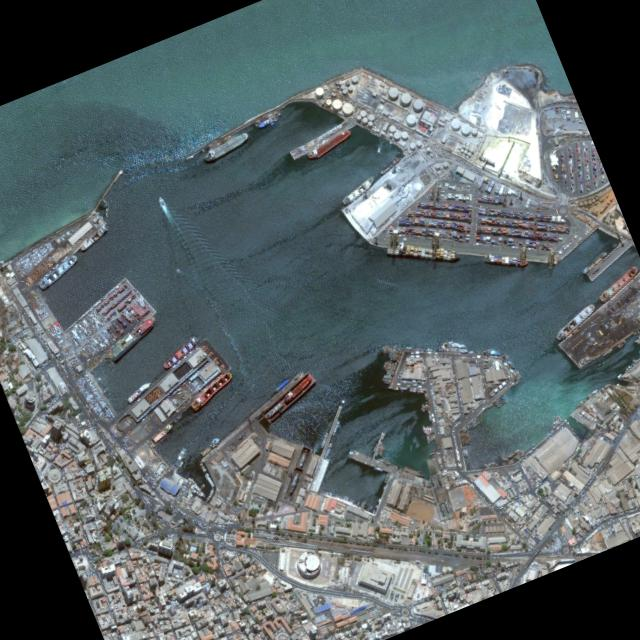large-vehicle: (3, 284, 8, 290), (94, 321, 99, 326), (480, 131, 484, 137), (587, 212, 593, 216), (544, 544, 549, 548), (483, 132, 487, 137), (476, 170, 481, 174), (465, 161, 470, 165), (393, 122, 398, 126), (480, 170, 485, 174), (551, 537, 555, 542), (457, 153, 462, 157), (457, 151, 462, 155), (542, 132, 547, 136), (358, 89, 363, 93), (381, 116, 386, 120), (475, 120, 480, 124), (529, 195, 534, 199), (524, 192, 529, 196), (476, 116, 481, 120), (464, 162, 469, 166), (394, 121, 399, 125), (515, 189, 520, 193), (540, 109, 544, 114), (455, 157, 460, 161), (446, 140, 451, 144), (447, 139, 452, 143), (178, 404, 183, 408), (554, 188, 558, 193), (551, 182, 555, 187), (448, 138, 453, 142), (470, 481, 474, 486), (519, 492, 524, 496), (520, 464, 524, 469), (526, 449, 531, 453), (531, 444, 536, 448), (142, 469, 146, 474), (140, 416, 145, 420), (136, 420, 141, 424), (176, 407, 181, 411), (30, 321, 34, 326), (34, 262, 39, 266), (30, 267, 35, 271), (13, 296, 17, 301), (6, 284, 10, 289), (45, 251, 50, 255), (66, 230, 70, 235), (69, 228, 73, 233), (47, 235, 52, 239), (43, 237, 48, 241), (21, 308, 25, 313), (47, 252, 52, 256), (49, 237, 54, 241), (63, 232, 67, 237), (189, 394, 194, 398), (219, 358, 223, 363), (193, 369, 198, 373), (448, 132, 453, 136), (93, 315, 97, 320), (96, 319, 100, 324), (56, 363, 60, 368), (62, 376, 66, 381), (60, 371, 64, 376), (436, 151, 442, 154), (475, 115, 481, 118), (561, 112, 564, 118), (545, 543, 549, 547), (448, 146, 452, 150), (546, 542, 550, 546), (471, 165, 475, 169), (474, 103, 478, 107), (548, 539, 552, 543), (473, 107, 477, 111), (474, 104, 478, 108), (386, 101, 390, 105), (385, 102, 389, 106), (475, 100, 479, 104), (475, 121, 479, 125), (542, 179, 546, 183), (545, 175, 549, 179), (183, 401, 187, 405), (555, 425, 559, 429), (52, 240, 56, 244), (145, 412, 149, 416), (175, 407, 179, 411), (64, 254, 68, 258), (19, 274, 23, 278), (181, 400, 185, 404), (181, 404, 185, 408), (55, 246, 59, 250), (65, 231, 69, 235), (69, 250, 73, 254), (34, 243, 38, 247), (25, 248, 29, 252), (590, 466, 594, 470), (187, 398, 191, 402), (187, 397, 191, 401), (201, 386, 205, 390), (219, 371, 223, 375), (190, 348, 194, 352), (96, 317, 100, 321), (139, 296, 143, 300), (140, 295, 144, 299), (141, 300, 145, 304), (68, 384, 72, 388), (94, 319, 98, 323), (552, 201, 557, 204), (404, 126, 409, 129), (342, 96, 347, 99), (362, 98, 367, 101), (481, 137, 484, 142), (436, 147, 441, 150), (478, 91, 483, 94), (475, 113, 480, 116), (482, 103, 485, 108), (398, 125, 403, 128), (471, 109, 476, 112), (476, 110, 481, 113), (476, 142, 479, 147), (478, 137, 481, 142), (525, 473, 528, 478), (436, 126, 439, 131), (363, 93, 368, 96), (383, 116, 388, 119), (354, 102, 359, 105), (474, 146, 477, 151), (477, 94, 482, 97), (356, 97, 361, 100), (357, 92, 362, 95), (361, 96, 366, 99), (362, 95, 367, 98), (364, 92, 369, 95), (443, 144, 448, 147), (364, 89, 369, 92), (438, 127, 441, 132), (387, 119, 392, 122), (564, 134, 569, 137), (357, 91, 362, 94), (485, 173, 490, 176), (477, 146, 480, 151), (537, 200, 542, 203), (534, 197, 539, 200), (476, 118, 481, 121), (579, 131, 584, 134), (490, 176, 495, 179), (495, 178, 500, 181), (499, 180, 504, 183), (509, 185, 514, 188), (451, 155, 456, 158), (457, 139, 462, 142), (447, 135, 452, 138), (475, 150, 478, 155), (543, 107, 548, 110), (541, 103, 546, 106), (554, 193, 557, 198), (543, 171, 546, 176), (548, 105, 553, 108), (607, 478, 610, 483), (523, 468, 526, 473), (454, 447, 457, 452), (176, 409, 181, 412), (67, 229, 70, 234), (71, 227, 74, 232), (66, 242, 69, 247), (165, 394, 170, 397), (205, 381, 210, 384), (95, 318, 98, 323), (60, 371, 63, 376), (88, 408, 91, 413), (539, 516, 542, 520), (543, 511, 546, 515), (536, 495, 539, 499), (483, 89, 487, 92), (481, 103, 484, 107), (472, 152, 475, 156), (476, 168, 480, 171), (550, 538, 553, 542), (548, 541, 551, 545), (463, 156, 467, 159), (358, 96, 362, 99), (476, 97, 480, 100), (478, 93, 482, 96), (474, 106, 478, 109), (474, 102, 478, 105), (347, 98, 351, 101), (360, 105, 364, 108), (360, 104, 364, 107), (377, 113, 381, 116), (540, 119, 542, 125), (549, 184, 552, 188), (551, 185, 554, 189), (515, 187, 519, 190), (479, 142, 482, 146), (520, 190, 524, 193), (460, 160, 464, 163), (451, 156, 455, 159), (351, 101, 355, 104), (476, 119, 480, 122), (544, 177, 547, 181), (565, 137, 569, 140), (92, 315, 95, 319), (456, 448, 458, 454), (172, 412, 176, 415), (55, 262, 59, 265), (26, 292, 30, 295), (182, 401, 186, 404), (63, 252, 67, 255), (64, 232, 67, 236), (65, 232, 68, 236), (174, 362, 178, 365), (85, 403, 88, 407), (186, 397, 190, 400), (215, 375, 219, 378), (182, 379, 186, 382), (537, 127, 539, 132), (436, 150, 441, 152), (435, 152, 437, 157), (434, 145, 436, 150), (379, 115, 384, 117), (566, 131, 571, 133), (540, 114, 542, 119), (538, 139, 540, 144), (471, 113, 476, 115), (543, 154, 545, 159), (548, 116, 550, 121), (541, 167, 543, 172), (559, 193, 561, 198), (546, 101, 551, 103), (459, 461, 461, 466), (552, 100, 557, 102), (19, 279, 24, 281), (18, 282, 20, 287), (595, 474, 598, 477), (339, 94, 342, 97), (113, 433, 116, 436), (436, 149, 440, 151), (404, 128, 408, 130), (480, 107, 482, 111), (556, 116, 558, 120), (552, 188, 554, 192), (561, 99, 565, 101), (584, 132, 588, 134), (539, 151, 541, 155), (458, 457, 460, 461), (455, 452, 457, 456), (158, 507, 162, 509), (539, 147, 541, 150), (455, 445, 457, 448), (574, 132, 579, 133), (551, 116, 552, 121), (552, 116, 553, 121), (574, 134, 579, 135), (541, 125, 542, 130), (559, 115, 560, 120), (558, 115, 559, 120), (580, 134, 585, 135), (538, 133, 539, 138), (567, 105, 572, 106), (560, 122, 565, 123), (457, 454, 458, 459), (23, 286, 24, 291), (481, 124, 485, 125), (547, 116, 548, 120), (536, 113, 537, 117), (579, 136, 583, 137), (585, 134, 589, 135), (552, 133, 556, 134), (557, 132, 561, 133), (458, 453, 459, 457), (572, 99, 575, 100), (567, 99, 570, 100), (539, 144, 540, 147), (568, 133, 571, 134), (558, 100, 561, 101)
ship: (107, 313, 157, 361), (189, 368, 233, 410), (554, 299, 596, 341), (598, 262, 640, 303), (202, 129, 250, 162), (306, 127, 351, 161), (37, 253, 78, 289), (160, 333, 199, 370), (386, 244, 459, 260), (340, 174, 375, 204), (282, 373, 312, 401), (79, 223, 108, 251), (581, 249, 608, 274), (127, 379, 151, 402), (483, 254, 528, 265), (151, 421, 173, 442), (378, 154, 401, 174), (200, 435, 220, 455), (266, 399, 285, 416), (256, 114, 279, 128), (173, 446, 187, 466), (402, 464, 425, 476), (273, 376, 290, 391), (288, 470, 299, 492), (438, 344, 467, 352), (501, 352, 515, 367), (297, 447, 307, 466), (442, 340, 465, 347), (323, 441, 332, 458), (319, 431, 328, 447), (331, 419, 340, 435), (374, 439, 382, 456), (507, 447, 520, 457), (396, 345, 404, 361), (470, 417, 482, 427), (388, 344, 396, 359), (377, 456, 391, 464), (587, 387, 598, 397), (512, 366, 522, 377), (481, 348, 499, 354), (385, 358, 392, 373), (173, 412, 183, 422), (616, 338, 626, 348), (513, 448, 524, 457), (392, 346, 399, 360), (390, 361, 397, 374), (405, 343, 420, 349), (516, 450, 526, 459), (459, 422, 470, 430), (602, 346, 613, 354), (387, 344, 394, 356), (526, 441, 535, 450), (461, 423, 471, 431), (439, 501, 445, 514), (394, 346, 400, 359), (388, 360, 394, 373), (378, 444, 385, 455), (578, 397, 587, 405), (377, 442, 383, 454), (383, 471, 390, 481), (187, 475, 196, 482), (470, 417, 479, 424), (469, 415, 478, 422), (370, 129, 379, 136), (385, 373, 391, 383), (373, 465, 383, 471), (444, 499, 449, 511), (465, 431, 470, 443), (468, 348, 480, 353), (512, 378, 520, 385), (425, 432, 430, 443), (387, 384, 398, 389), (591, 361, 600, 367), (459, 431, 463, 444), (419, 346, 432, 350), (347, 447, 352, 457), (349, 448, 354, 458), (382, 344, 387, 354), (463, 431, 467, 443), (383, 373, 388, 382), (388, 374, 393, 383), (372, 442, 377, 451), (421, 423, 426, 432), (429, 449, 438, 454), (376, 144, 381, 153), (461, 431, 465, 442), (464, 445, 468, 456), (384, 359, 388, 370), (553, 414, 560, 420), (178, 459, 184, 466), (487, 401, 494, 407), (461, 445, 465, 455), (556, 417, 562, 423), (563, 418, 569, 424), (634, 356, 640, 362), (381, 373, 386, 380), (554, 416, 561, 421), (491, 397, 498, 402), (382, 360, 386, 368), (429, 423, 433, 431), (428, 424, 432, 432), (420, 402, 424, 410), (487, 460, 495, 464), (490, 462, 498, 466), (616, 372, 622, 377), (500, 398, 506, 403), (342, 495, 348, 500), (495, 400, 501, 405), (493, 399, 499, 404), (197, 489, 202, 495), (380, 344, 384, 351), (506, 458, 513, 462), (342, 494, 349, 498), (424, 425, 428, 432), (387, 345, 391, 352), (431, 431, 435, 438), (385, 345, 389, 352), (424, 402, 428, 409), (423, 391, 427, 398), (428, 432, 431, 441), (417, 387, 426, 390), (627, 363, 632, 368), (496, 402, 501, 407), (499, 398, 505, 402), (498, 396, 504, 400), (426, 425, 429, 433), (416, 389, 424, 392), (409, 386, 417, 389), (335, 494, 342, 497), (430, 432, 433, 439), (428, 413, 431, 420), (507, 460, 514, 463), (409, 388, 416, 391), (382, 484, 386, 489), (190, 483, 194, 488), (497, 394, 502, 398), (199, 490, 203, 495), (398, 386, 407, 388), (601, 359, 605, 363), (634, 337, 638, 341), (633, 330, 637, 334), (624, 367, 628, 371), (377, 496, 380, 501), (204, 472, 209, 475), (423, 403, 426, 408), (427, 408, 430, 413), (374, 503, 377, 507), (369, 504, 372, 508), (204, 471, 208, 474), (202, 468, 206, 471), (206, 476, 210, 479), (194, 483, 197, 487), (196, 485, 199, 489), (197, 487, 201, 490), (199, 462, 202, 465), (210, 488, 213, 491), (208, 478, 211, 481), (210, 481, 213, 484), (192, 488, 195, 491), (197, 486, 200, 489), (205, 474, 208, 477), (206, 475, 209, 478), (193, 488, 196, 491), (209, 492, 212, 495), (201, 492, 204, 495), (195, 489, 198, 492), (376, 503, 378, 507), (200, 465, 204, 467), (200, 464, 204, 466), (638, 340, 640, 343), (380, 509, 382, 512), (202, 467, 205, 469), (208, 477, 211, 479), (209, 480, 212, 482), (211, 483, 214, 485), (211, 485, 214, 487), (203, 493, 205, 496), (208, 494, 211, 496), (195, 484, 197, 487), (196, 490, 199, 492), (206, 496, 209, 498), (201, 466, 204, 468), (210, 491, 212, 493), (210, 490, 212, 492)
storage-tank: (339, 99, 355, 115), (458, 120, 473, 136), (410, 96, 425, 111), (398, 90, 413, 105), (385, 84, 400, 99), (403, 111, 417, 126), (448, 115, 462, 130), (330, 96, 343, 110), (313, 85, 325, 98), (391, 129, 402, 141), (469, 125, 479, 136), (399, 129, 409, 139), (349, 73, 359, 83), (358, 107, 367, 116), (388, 123, 396, 132), (324, 97, 332, 106), (367, 112, 375, 120), (441, 159, 449, 167), (433, 161, 441, 169), (408, 141, 416, 149), (354, 113, 362, 121), (361, 115, 369, 123), (415, 138, 422, 146), (366, 119, 373, 126), (424, 145, 431, 152), (346, 84, 353, 91), (468, 145, 475, 152), (387, 131, 393, 138), (341, 87, 347, 93), (344, 78, 350, 84), (339, 82, 345, 88), (337, 78, 343, 84), (568, 480, 574, 486), (582, 198, 588, 204), (578, 199, 583, 206), (587, 198, 592, 204), (460, 146, 464, 151), (467, 150, 471, 155), (465, 144, 469, 149), (635, 528, 639, 533), (463, 148, 467, 152), (461, 143, 465, 147), (457, 144, 461, 148), (591, 197, 595, 201), (633, 529, 636, 534), (537, 476, 540, 480), (595, 195, 598, 198), (638, 528, 640, 532)
